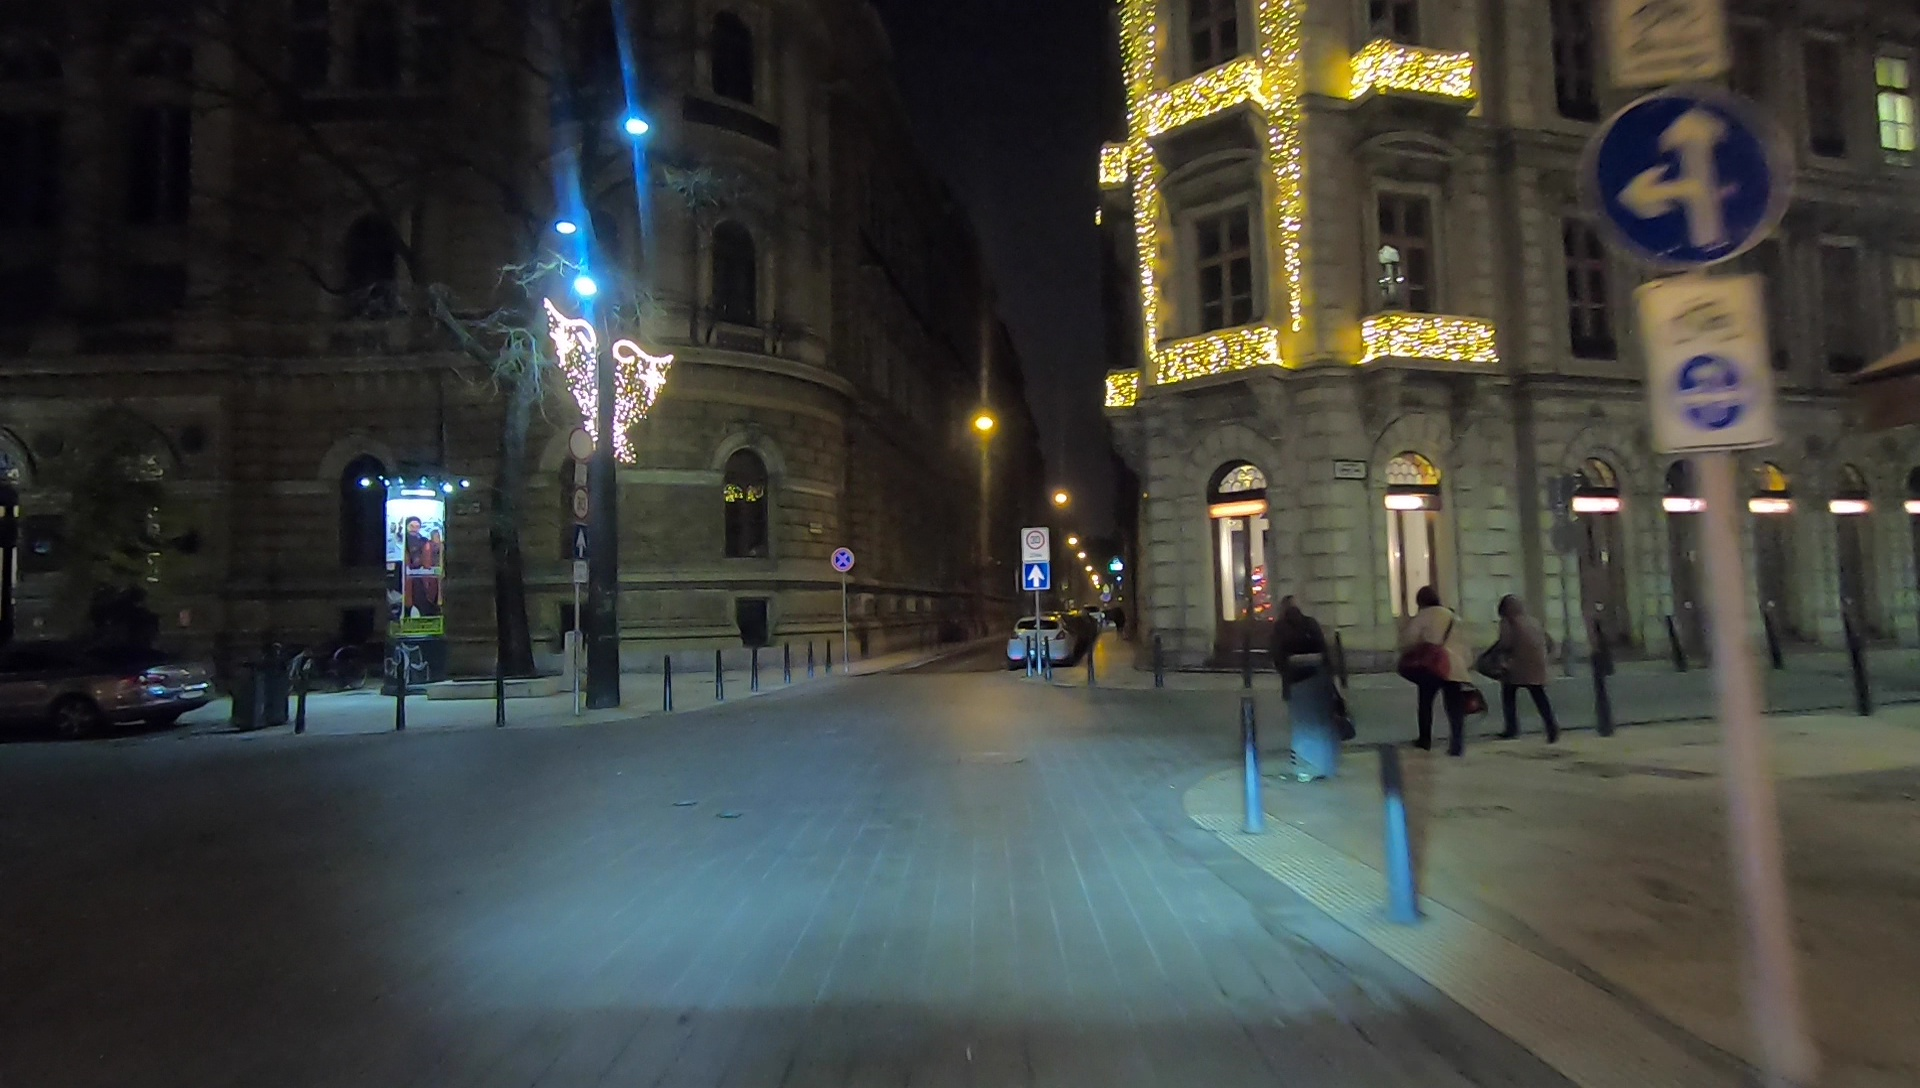person: (1482, 591, 1573, 745), (1271, 591, 1351, 747), (1404, 586, 1471, 760)
